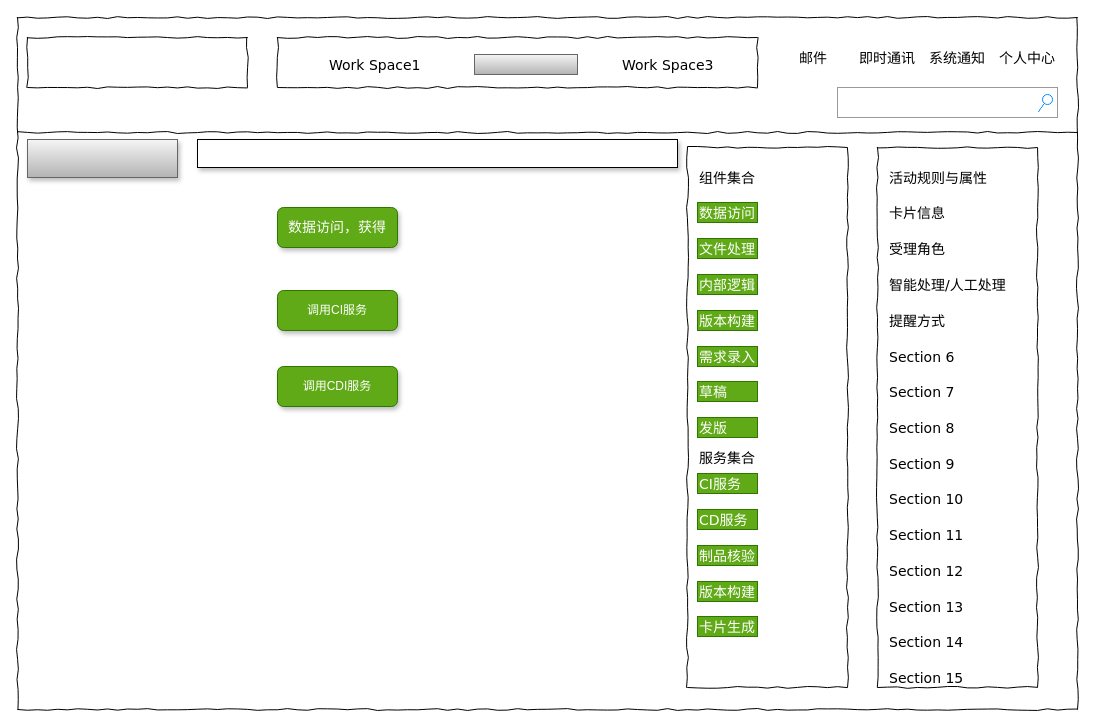
Some shapes in this 1095 by 727 pixel diagram are drawn without their labels. The centre of each missing label's shape, as x and y in pixels:
"Work Space2" belongs at (x=526, y=64).
"一体化作战平台" belongs at (x=137, y=62).
"全域搜索" belongs at (x=947, y=102).
"开发人员作战画布 可视化开发助手" belongs at (x=103, y=159).
"根据会签需求，基于编排器组合已有服务和组件形成业务流程" belongs at (x=438, y=154).
